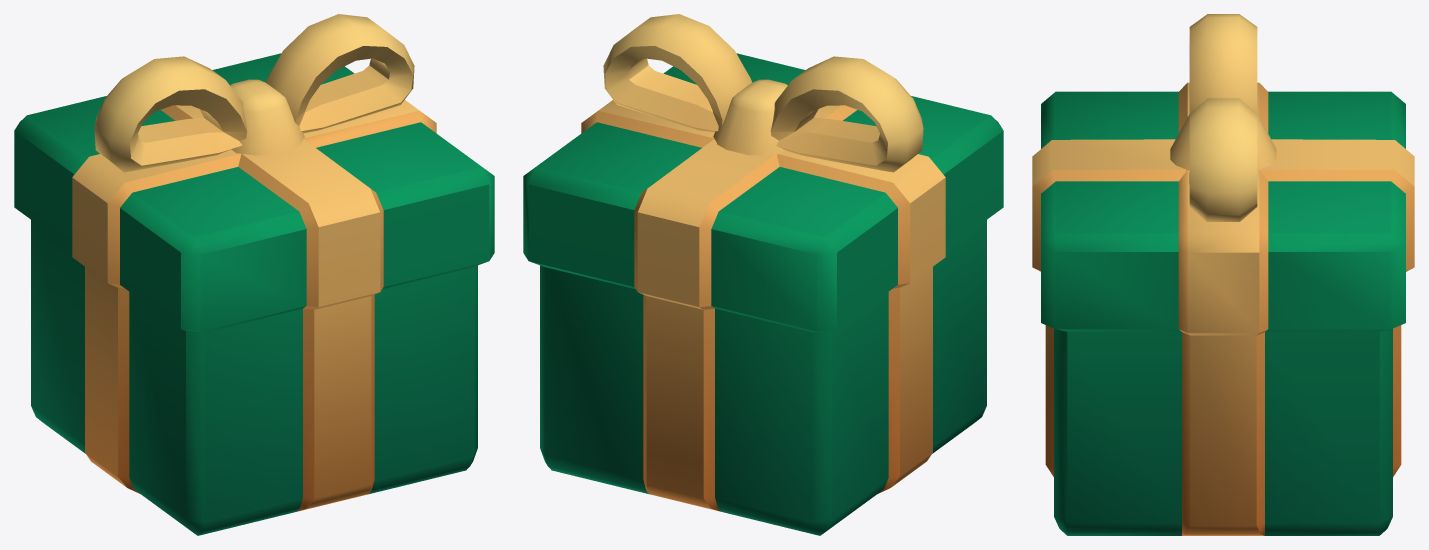
File: present_A_green.glb
The picture shows the model from 3 angles, left to right: view 1: azimuth 30°, elevation 25°; view 2: azimuth 150°, elevation 25°; view 3: azimuth 270°, elevation 25°; orthographic projection.
Visible parts, largest first — view 1: present_A_green; view 2: present_A_green; view 3: present_A_green.
Boxes of the visible parts, x1=… form: present_A_green: x1=14, y1=14, x2=494, y2=535; present_A_green: x1=523, y1=14, x2=1003, y2=535; present_A_green: x1=1032, y1=14, x2=1414, y2=535.
Bounding box in the file's own units: 0.5638 × 0.6617 × 0.5638.
Materials: 1 (1 with a texture image).
